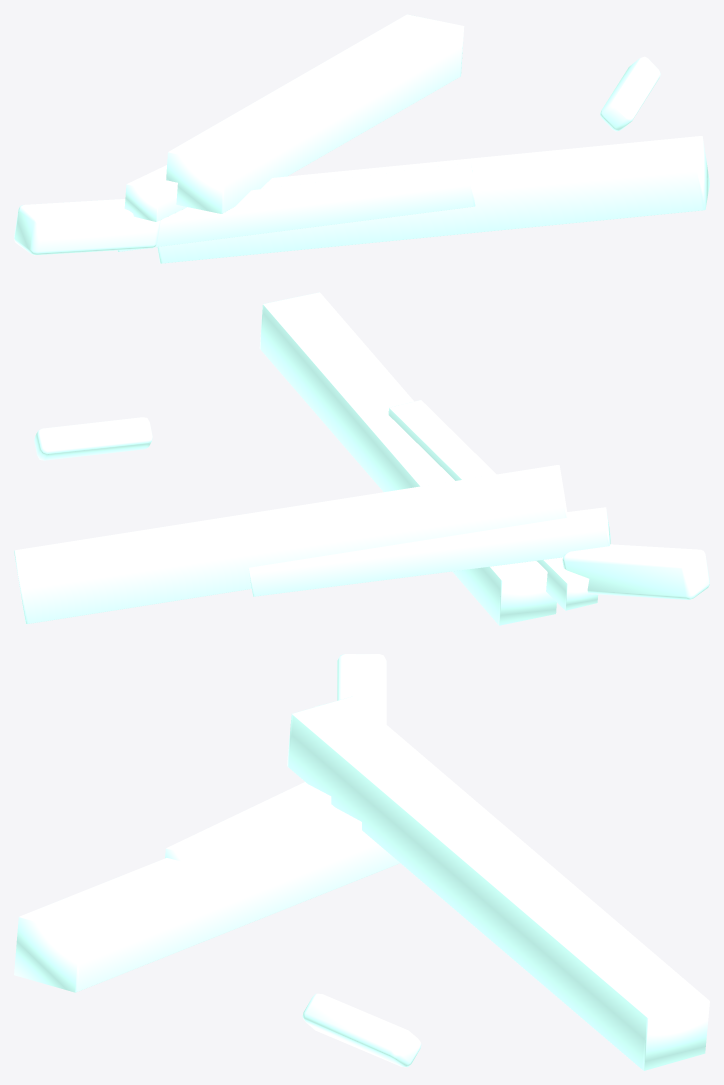
Rendered from Idol_Wind_Crescent.glb.
The picture shows the model from 3 angles, top to bottom: view 1: azimuth 30°, elevation 25°; view 2: azimuth 150°, elevation 25°; view 3: azimuth 270°, elevation 25°; orthographic projection. The views are drawn at different scales.
Parts seen in each view (by area): view 1: Idol_Wind_Crescent; view 2: Idol_Wind_Crescent; view 3: Idol_Wind_Crescent.
Boxes of the visible parts, left/top/right/bottom form: Idol_Wind_Crescent: left=14, top=14, right=709, bottom=263; Idol_Wind_Crescent: left=14, top=292, right=709, bottom=625; Idol_Wind_Crescent: left=14, top=654, right=709, bottom=1070.
Bounding box in the file's own units: 1.42 × 0.2429 × 1.12.
